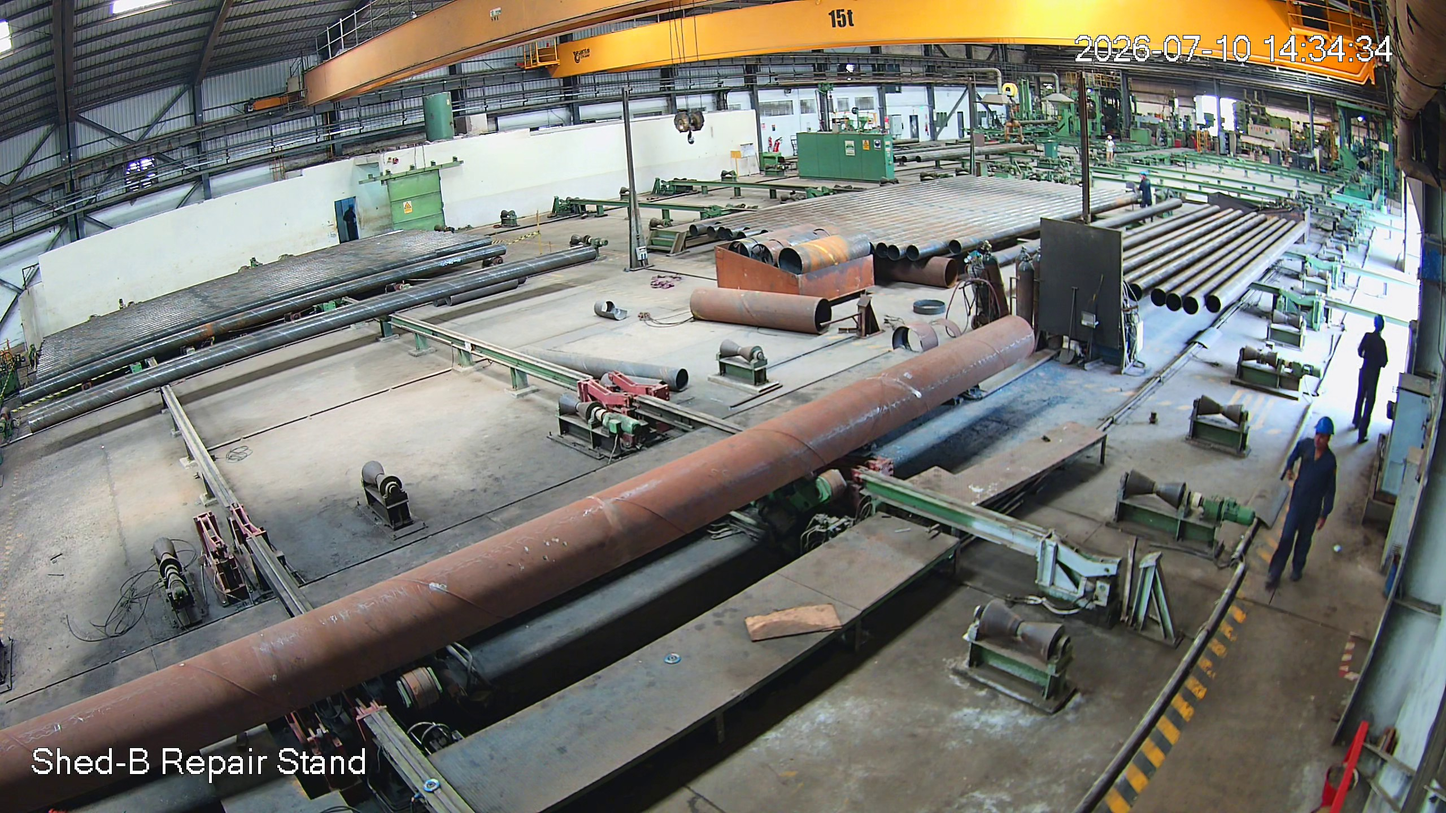Helmet: (1304, 412, 1348, 476), (1365, 308, 1387, 347)
Person: (1263, 414, 1351, 605), (1345, 314, 1393, 449)
